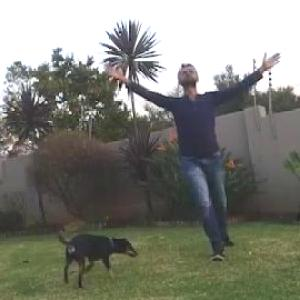takeoff: (122, 58, 282, 242)
